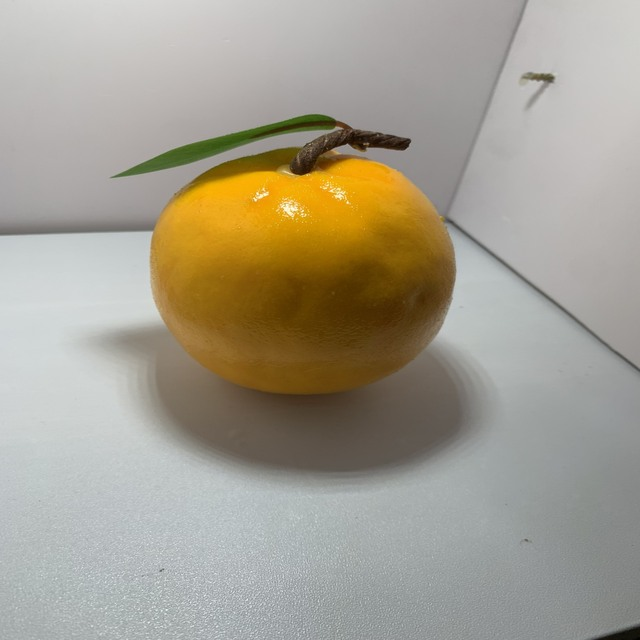Cam vang: (143, 119, 463, 398)
